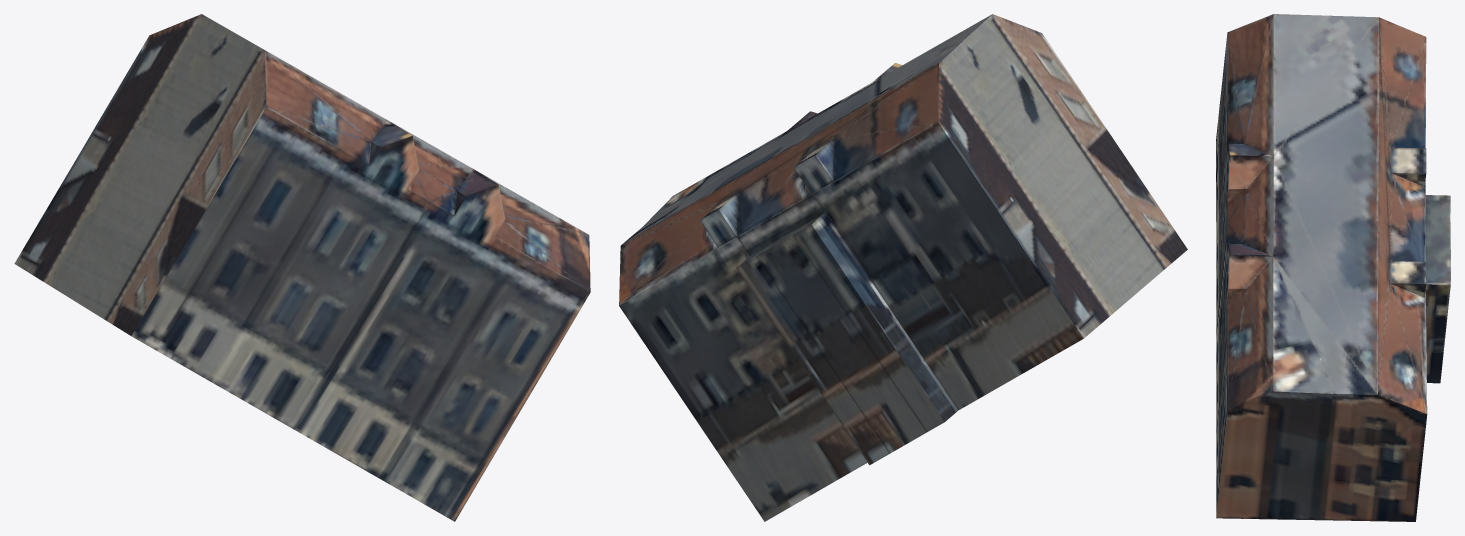
3 views of the same model, side by side, from view 1: azimuth 30°, elevation 25°; view 2: azimuth 150°, elevation 25°; view 3: azimuth 270°, elevation 25° (orthographic). The views are drawn at different scales.
Parts seen in each view (by area): view 1: BAG_0599100000688733 (×5); view 2: BAG_0599100000688733 (×7); view 3: BAG_0599100000688733 (×8).
Part boxes in pixels (x1=…): BAG_0599100000688733 (×5): x1=14, y1=14, x2=590, y2=521; BAG_0599100000688733 (×7): x1=619, y1=14, x2=1187, y2=521; BAG_0599100000688733 (×8): x1=1216, y1=14, x2=1450, y2=521.
Size of the model in its own units: 23.44 by 22.31 by 10.75.
9 materials, 9 textured.
